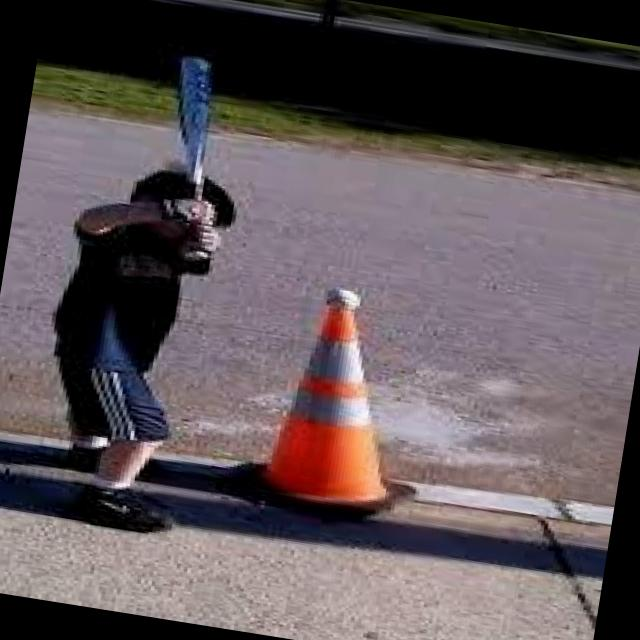Cone: (201, 278, 452, 541)
